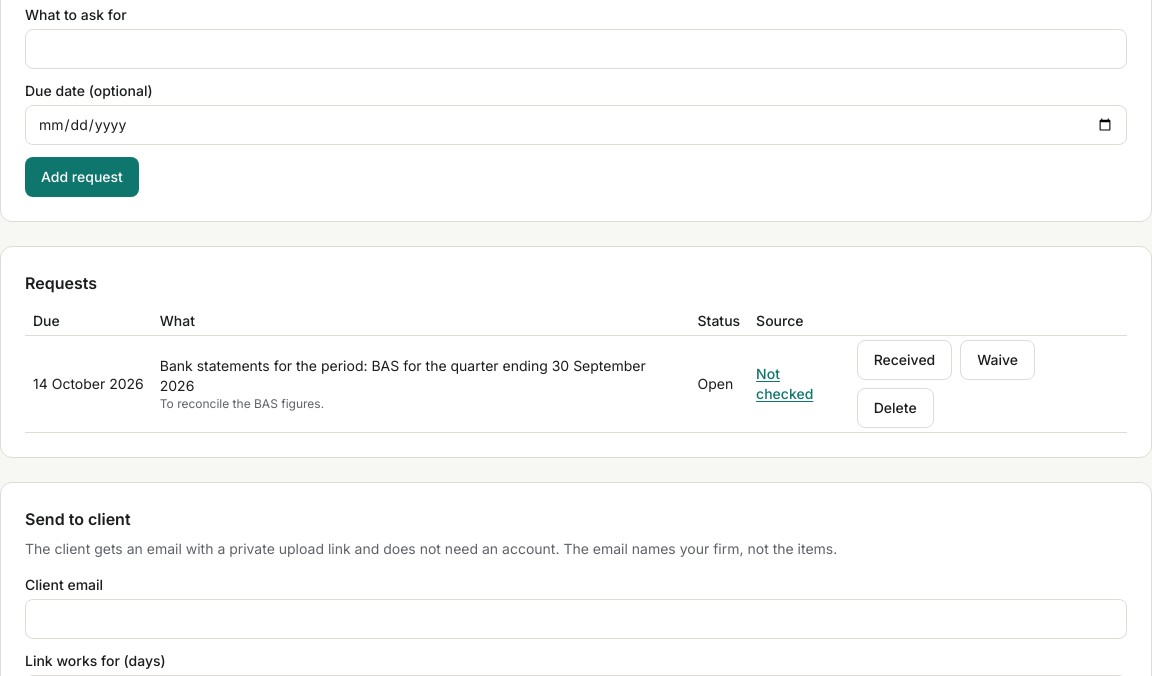
Entity requests (C2) › ER6 mark received sends PATCH and shows Reopen
The width and height of the screenshot is (1152, 676).
(page scrolled)
Click the button "Received" at (904, 360), box [857, 340, 952, 380]
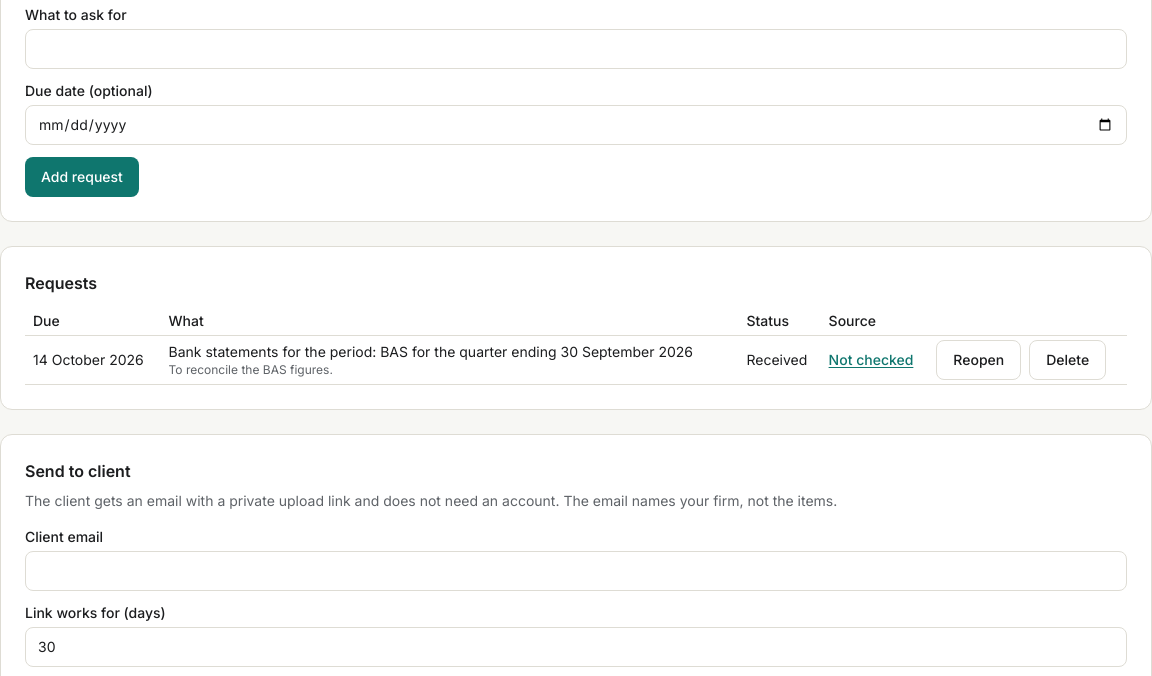
expect the text "Received" is shown: met, box [738, 336, 821, 384]
